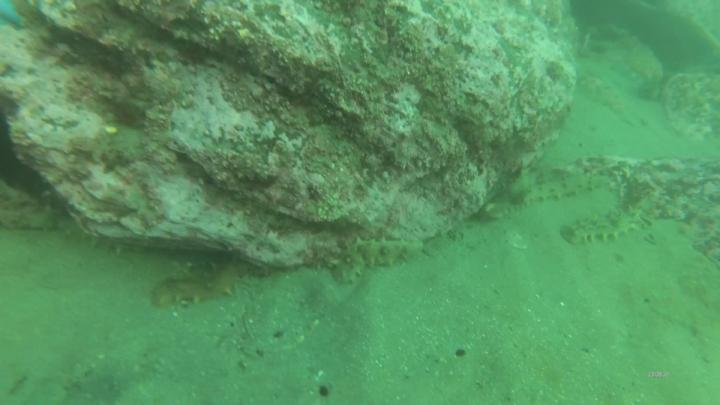holothurian: (150, 258, 255, 310), (325, 238, 423, 286), (562, 197, 665, 242), (519, 167, 617, 207)
